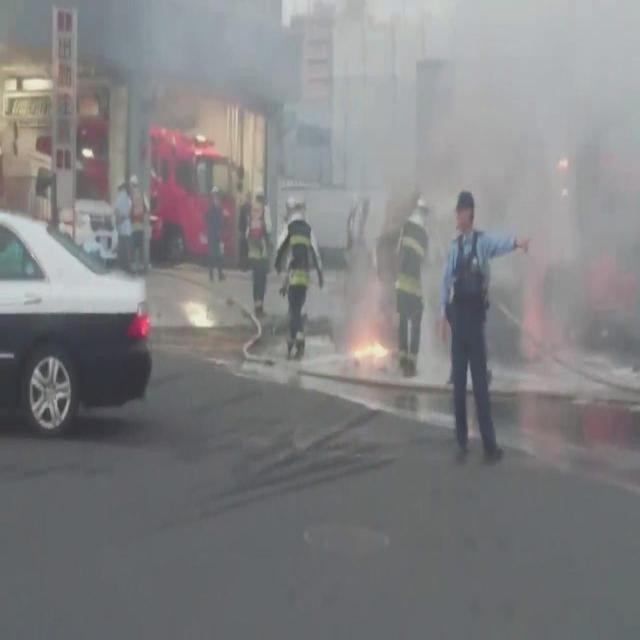Smoke: (410, 8, 630, 194), (522, 200, 632, 362)
